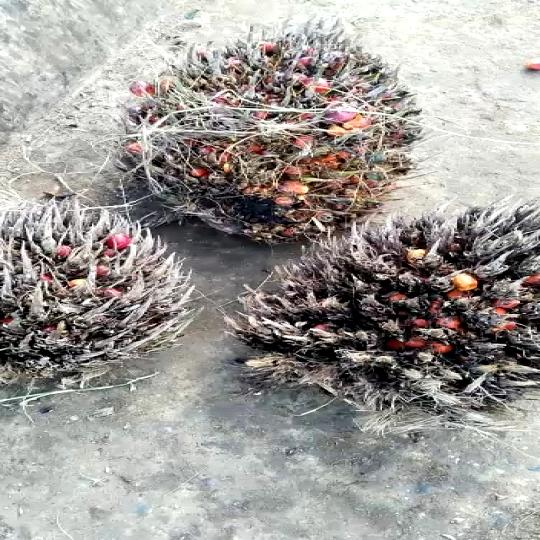terlalu masak: (219, 201, 540, 431), (111, 16, 408, 251)
